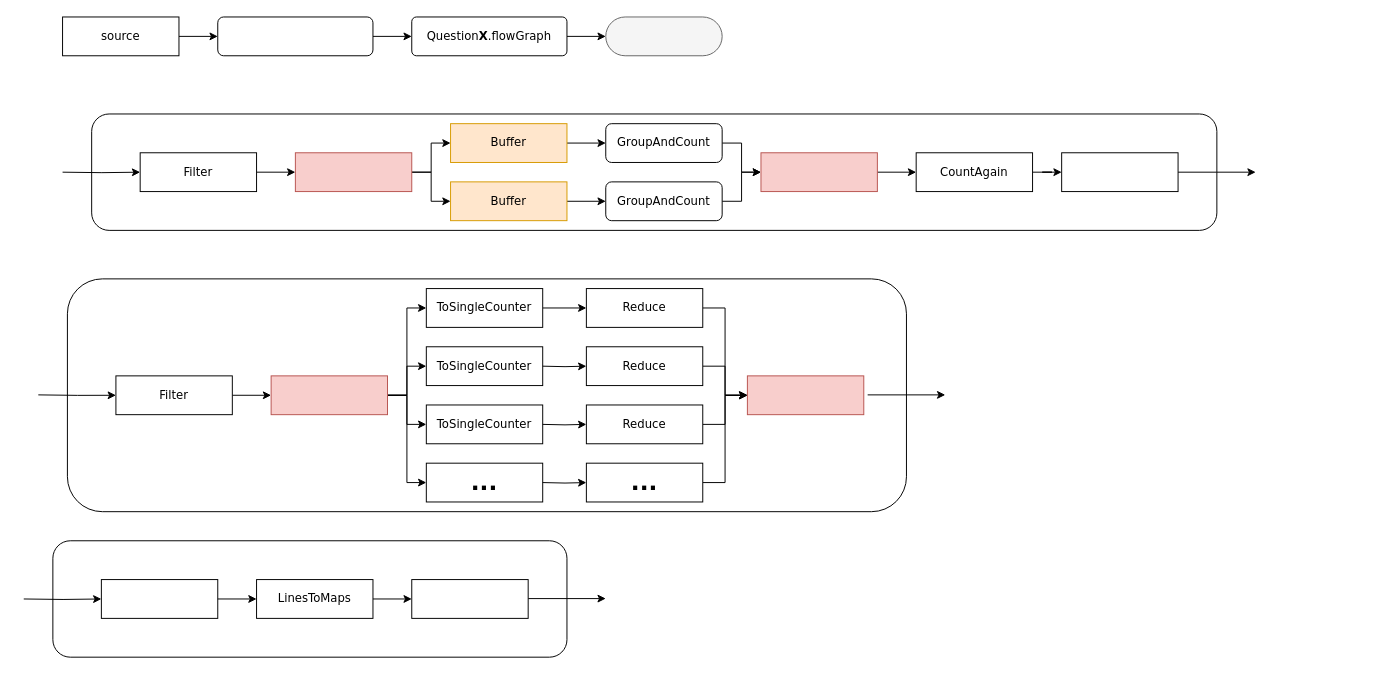
Some shapes in this 1389 by 674 pixel diagram are drawn without their labels. Here are the shapes that lost their labels. From the top down, the centre of each, then its label:
pixel 295 36: byteStringToMatchFlow
pixel 663 36: Question X .sink
pixel 353 172: Balance
pixel 818 172: Merge
pixel 1119 172: ToByteString
pixel 329 395: groupBy
pixel 805 395: mergeSubstreams
pixel 159 598: FileDataToLines
pixel 469 598: MapsToMatch
